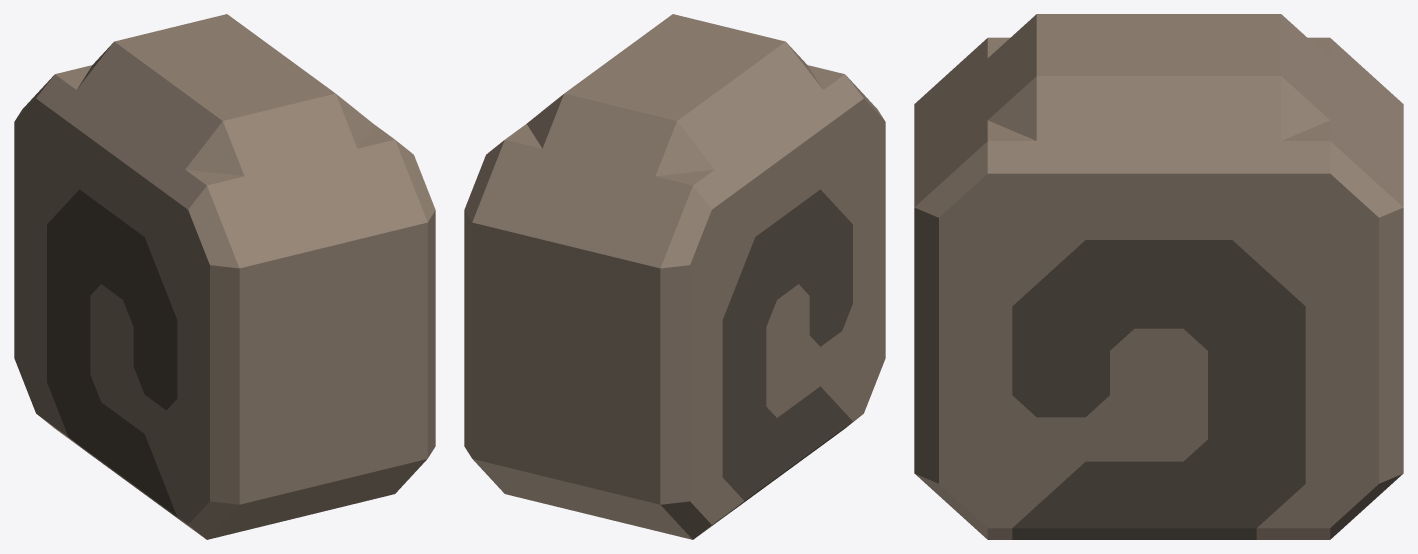
The model's file is Shell_dash.glb.
3 views of the same model, side by side, from view 1: azimuth 30°, elevation 25°; view 2: azimuth 150°, elevation 25°; view 3: azimuth 270°, elevation 25° (orthographic). The views are drawn at different scales.
Visible parts, largest first — view 1: pl0; view 2: pl0; view 3: pl0.
Boxes of the visible parts, box(x1,y1,x2,y2) form: pl0: box(14, 14, 435, 539); pl0: box(464, 14, 885, 539); pl0: box(914, 14, 1403, 539).
Size of the model in its own units: 0.6 by 1 by 1.
1 material, 1 textured.
